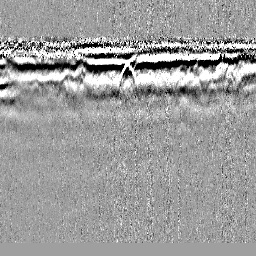cavity: (115, 60, 139, 94)
